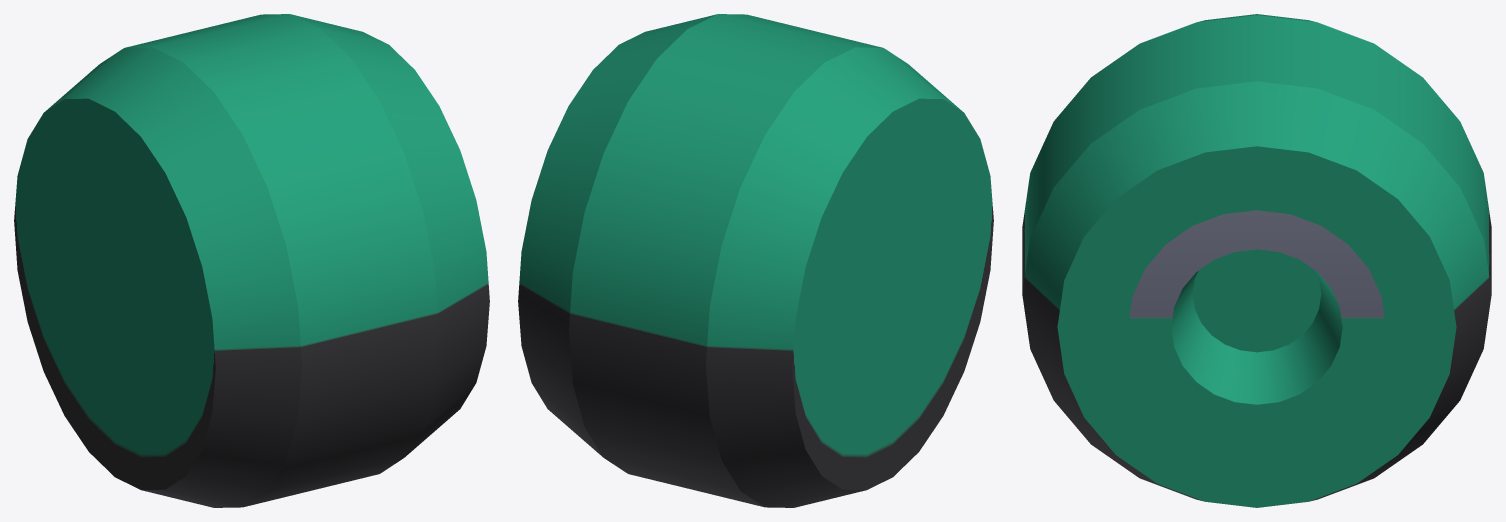
The model's file is wheel-racing.glb.
The picture shows the model from 3 angles, left to right: view 1: azimuth 30°, elevation 25°; view 2: azimuth 150°, elevation 25°; view 3: azimuth 270°, elevation 25°; orthographic projection.
Parts seen in each view (by area): view 1: wheel-racing; view 2: wheel-racing; view 3: wheel-racing.
Boxes of the visible parts, x1,y1,x2,y2 form: wheel-racing: (14,14,489,507); wheel-racing: (518,14,993,507); wheel-racing: (1022,14,1491,507).
Size of the model in its own units: 0.4 by 0.6 by 0.6.
1 material, 1 textured.
